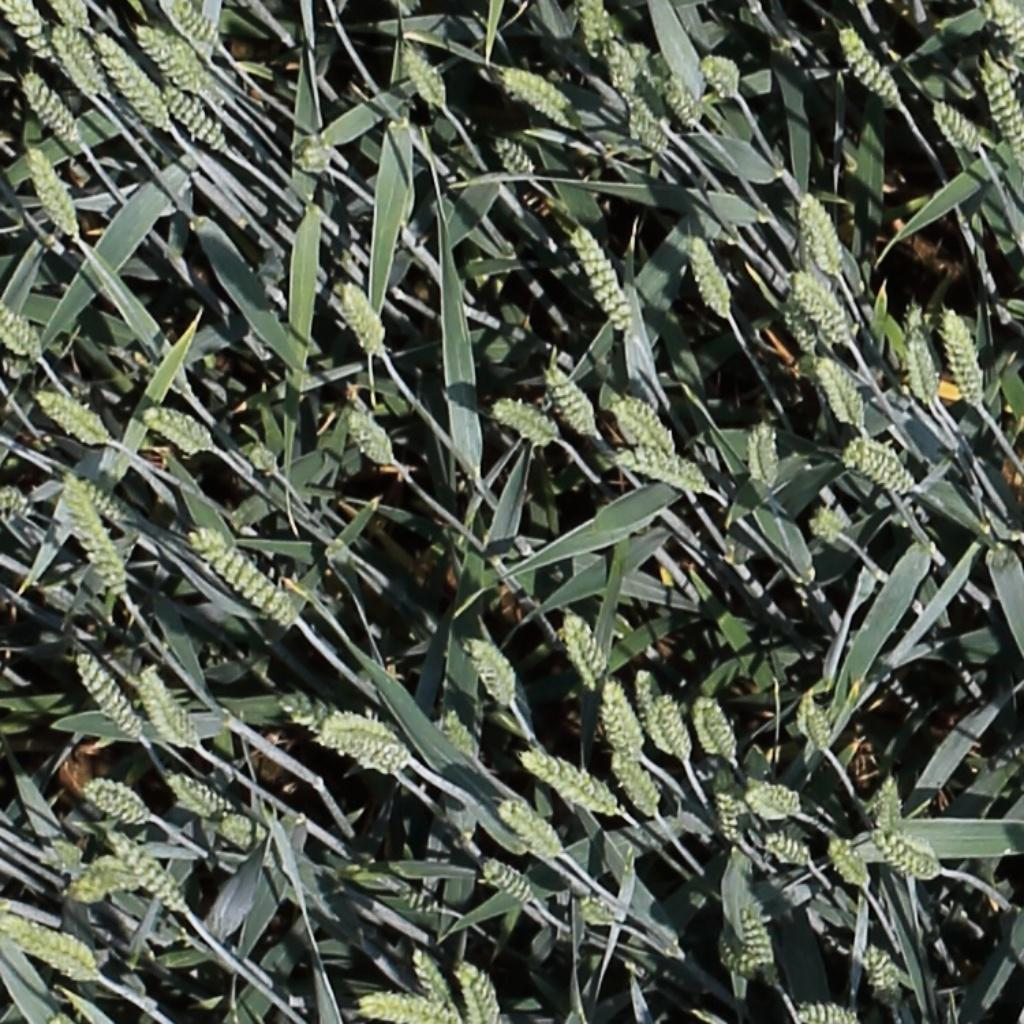0-0: (193, 527, 296, 616), (117, 826, 218, 916), (71, 478, 142, 593), (518, 747, 630, 819), (91, 24, 173, 120), (570, 221, 638, 325), (2, 913, 98, 984), (351, 851, 452, 916), (74, 653, 149, 738), (30, 154, 95, 246), (606, 44, 674, 130), (138, 671, 205, 753), (318, 712, 414, 769), (838, 19, 907, 98), (281, 694, 377, 750), (284, 122, 349, 203), (132, 19, 210, 86), (867, 832, 958, 887), (17, 58, 84, 132), (977, 46, 1024, 151), (945, 305, 994, 403), (401, 942, 459, 1024), (615, 446, 716, 493), (541, 360, 602, 436), (687, 232, 740, 318), (723, 904, 776, 990), (353, 984, 466, 1024), (492, 798, 571, 855), (170, 99, 241, 162), (816, 355, 873, 432), (168, 768, 254, 819), (502, 60, 582, 113), (49, 17, 105, 91), (557, 612, 607, 694), (593, 672, 641, 757), (712, 767, 760, 852), (338, 279, 390, 357), (805, 196, 852, 282), (613, 750, 672, 817), (466, 632, 523, 701), (52, 855, 141, 898), (795, 273, 848, 345), (903, 319, 942, 415), (85, 773, 153, 828), (865, 779, 911, 859), (36, 392, 111, 441), (611, 392, 675, 449), (397, 35, 451, 101), (652, 692, 702, 762), (629, 34, 659, 150), (0, 0, 57, 61), (623, 646, 669, 720), (74, 471, 145, 518), (455, 953, 504, 1021), (861, 943, 907, 1013), (864, 452, 935, 497), (341, 407, 398, 463), (775, 296, 822, 363), (489, 857, 536, 920), (142, 410, 212, 450), (494, 404, 563, 444), (3, 310, 48, 370), (931, 86, 985, 136), (659, 62, 708, 117), (744, 778, 808, 820), (796, 686, 836, 753), (166, 0, 222, 45), (433, 700, 478, 756), (699, 695, 737, 761), (847, 431, 898, 478), (987, 0, 1024, 64), (494, 135, 542, 179), (584, 880, 625, 929), (827, 828, 873, 871), (772, 1003, 865, 1024), (582, 0, 614, 60), (749, 412, 775, 485), (762, 831, 812, 866), (701, 47, 744, 87), (0, 479, 40, 520), (246, 435, 284, 475), (222, 816, 274, 841), (44, 835, 77, 873), (808, 512, 846, 544), (55, 0, 94, 30), (795, 894, 860, 909)
